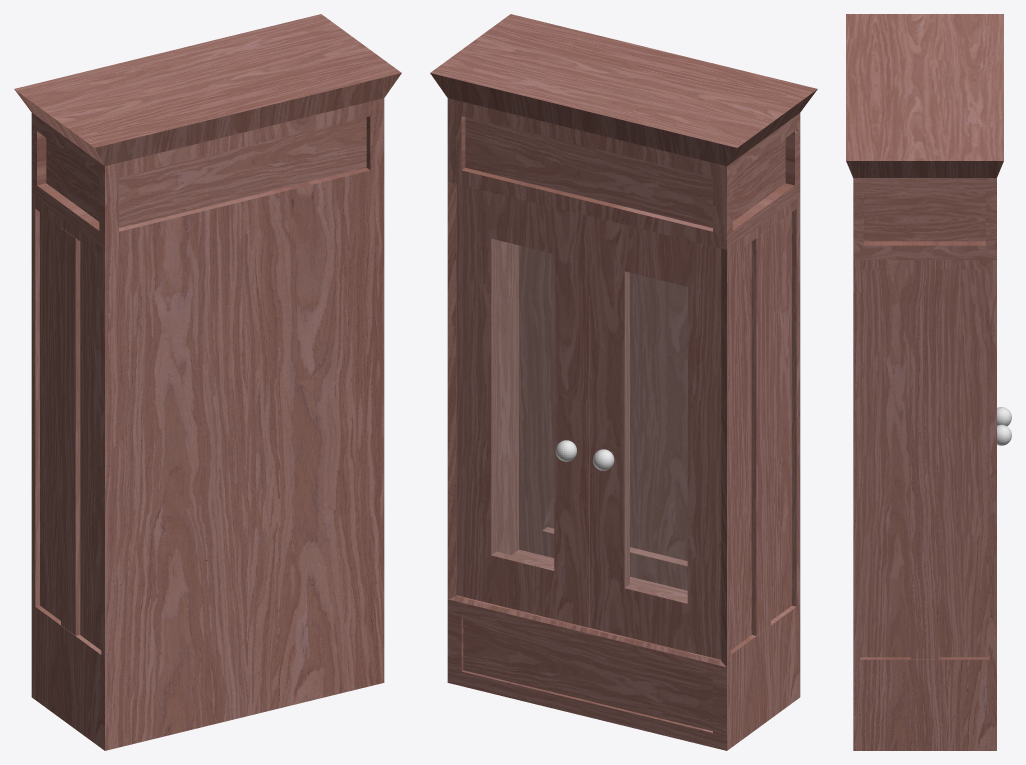
Rendered from Armoire_Chambre.fbx.
The picture shows the model from 3 angles, left to right: view 1: azimuth 30°, elevation 25°; view 2: azimuth 150°, elevation 25°; view 3: azimuth 270°, elevation 25°; orthographic projection. The views are drawn at different scales.
Parts seen in each view (by area): view 1: Armoire; view 2: Armoire, PorteGauche, PorteDroite; view 3: Armoire.
Part boxes in pixels (x1=…): Armoire: x1=14, y1=14, x2=401, y2=750; Armoire: x1=430, y1=14, x2=817, y2=750; PorteGauche: x1=456, y1=184, x2=589, y2=627; PorteDroite: x1=589, y1=216, x2=721, y2=659; Armoire: x1=846, y1=14, x2=1003, y2=750.
Bounding box in the file's own units: 330 × 625 × 157.
